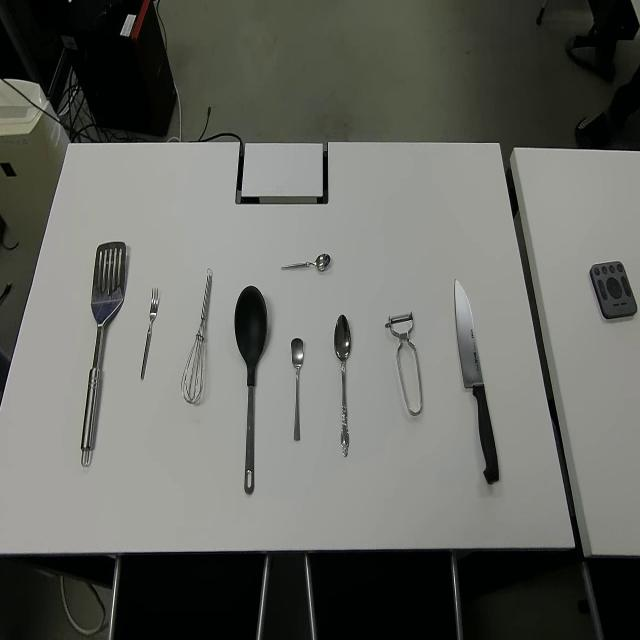Desert-Spoon: (332, 314, 352, 459)
Dinner-Fork: (140, 286, 159, 382)
Kitchen-Knife: (453, 276, 500, 486)
Peeler: (384, 308, 422, 417)
Serving-Spoon: (80, 240, 126, 468), (233, 283, 268, 496)
Tea-Spoon: (290, 337, 305, 443), (280, 251, 332, 272)
Whisk: (180, 266, 214, 404)
